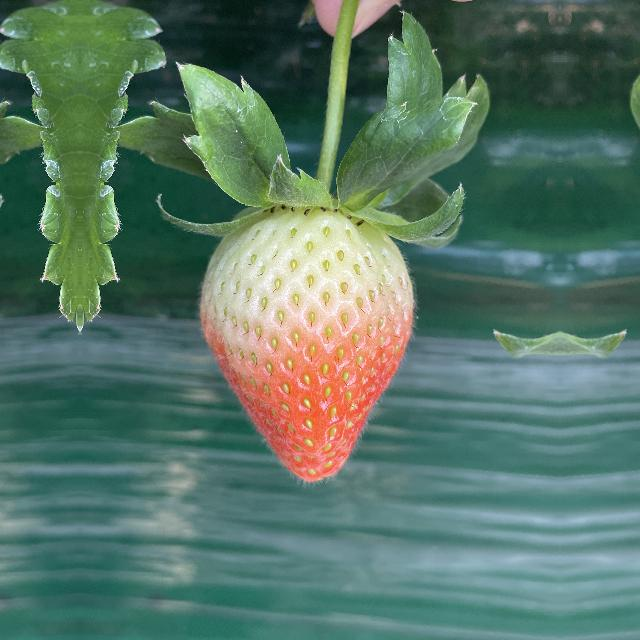Health_75: (202, 206, 420, 482)
